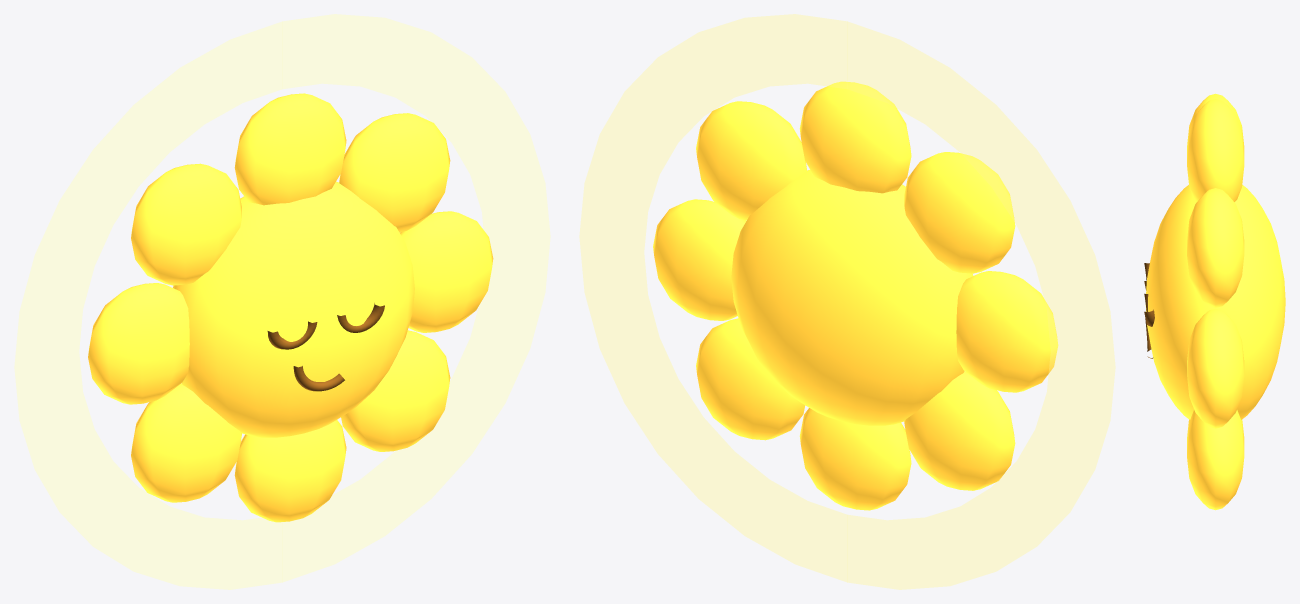
File: sun.glb
The picture shows the model from 3 angles, left to right: view 1: azimuth 30°, elevation 25°; view 2: azimuth 150°, elevation 25°; view 3: azimuth 270°, elevation 25°; orthographic projection. The views are drawn at different scales.
Parts seen in each view (by area): view 1: Halo, Core, Ray3, Ray4, Ray2, Ray1, Ray5, Ray6, Ray0, Ray7, Sun; view 2: Halo, Core, Ray3, Ray4, Ray2, Ray1, Ray5, Ray6, Ray0, Ray7; view 3: Core, Ray1, Ray0, Ray2, Ray7, Ray3, Sun.
Boxes of the visible parts, x1,y1,x2,y2 form: Halo: (14,14,550,589); Core: (173,181,414,437); Ray3: (131,163,241,285); Ray4: (88,283,189,404); Ray2: (234,93,346,205); Ray1: (339,113,450,232); Ray5: (131,383,241,502); Ray6: (234,420,346,522); Ray0: (400,211,493,332); Ray7: (341,330,450,451); Sun: (267,303,384,391); Halo: (579,14,1115,589); Core: (731,170,973,425); Ray3: (904,152,1015,273); Ray4: (956,271,1058,392); Ray2: (799,81,911,193); Ray1: (696,101,806,220); Ray5: (904,371,1015,490); Ray6: (799,408,911,510); Ray0: (653,199,746,320); Ray7: (696,318,805,440); Core: (1145,185,1285,419); Ray1: (1187,188,1244,307); Ray0: (1187,308,1244,428); Ray2: (1187,99,1244,201); Ray7: (1187,410,1244,510); Ray3: (1187,93,1244,150); Sun: (1144,263,1154,358).
Bounding box in the file's own units: 1.9 × 1.9 × 0.4664.
